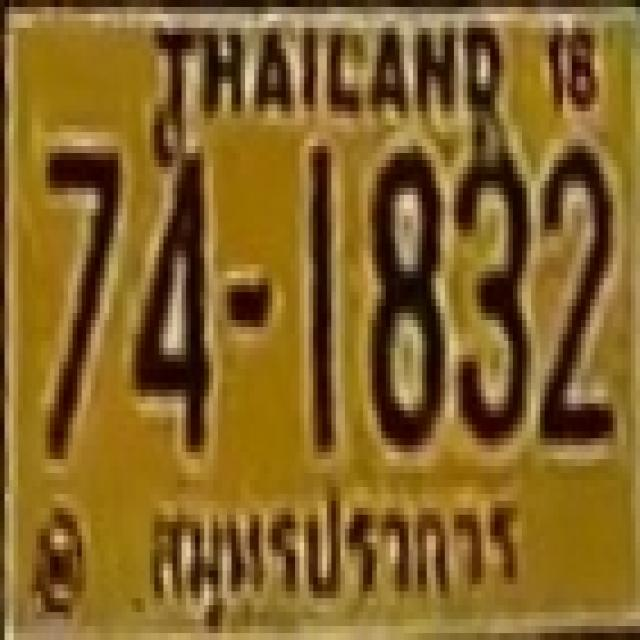1: (304, 146, 331, 445)
2: (536, 142, 608, 442)
3: (452, 146, 528, 438)
4: (132, 139, 204, 445)
7: (41, 146, 118, 452)
8: (368, 142, 440, 442)
SPK: (137, 492, 544, 638)
